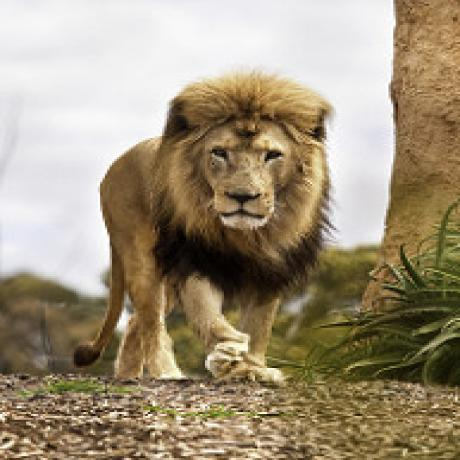Lion: (83, 68, 336, 383)
